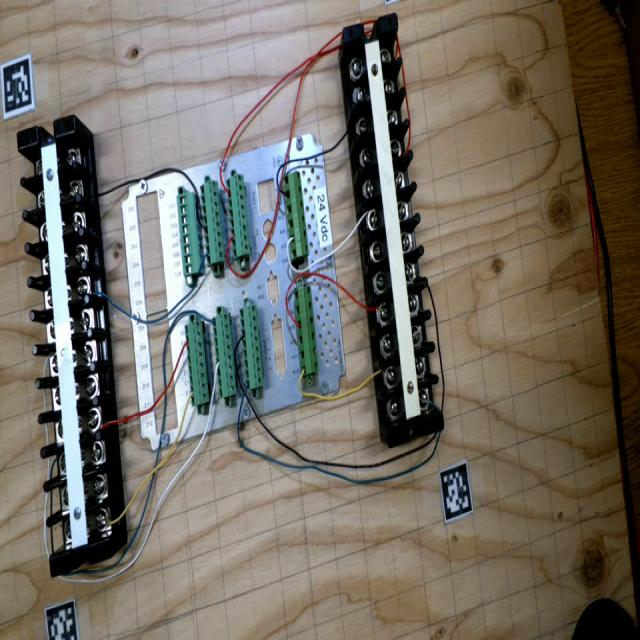Flathead_Block: (342, 13, 445, 447)
Phillips_Block: (16, 115, 111, 578)
Terminal_1: (282, 170, 309, 260), (294, 286, 319, 376)
Terminal_2: (184, 320, 210, 407), (239, 304, 264, 391), (200, 180, 225, 266), (226, 174, 251, 259), (212, 313, 237, 398)
